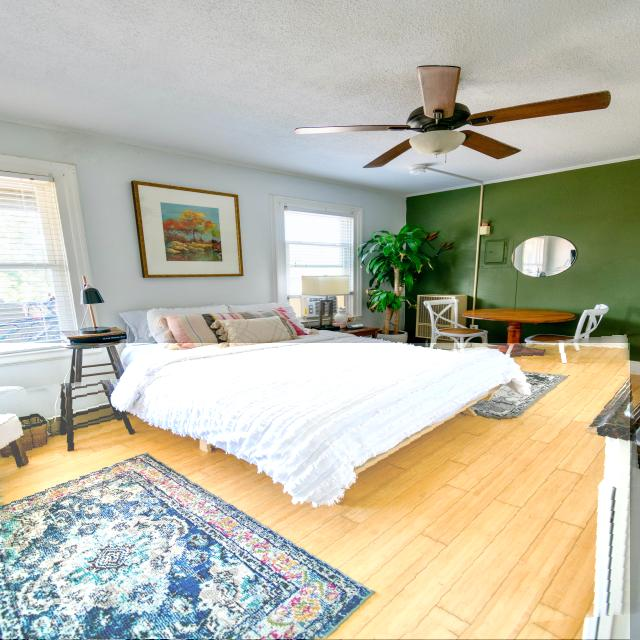floor: (0, 343, 630, 640)
